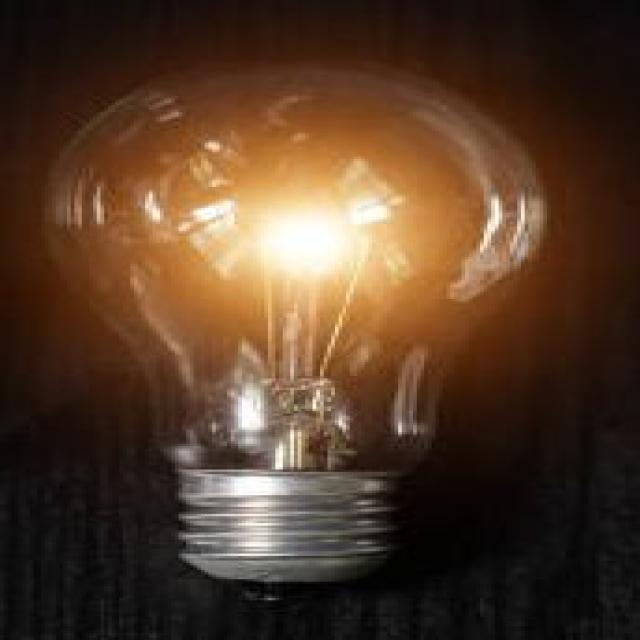electronic: (33, 54, 547, 588)
